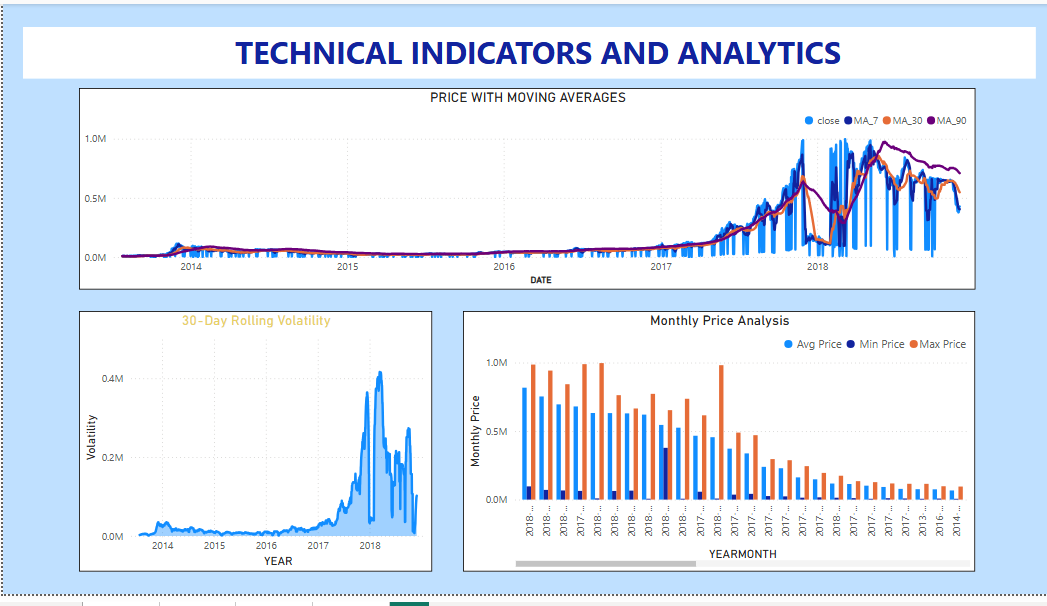

This screenshot's page, from the dashboard's own definition file:
{"tool":"powerbi","page":{"name":"Page 4","canvas":[1280,720],"ordinal":3},"visuals":[{"type":"textbox","box":[24,28.5,1236.4,63.1],"z":0},{"type":"lineChart","title":"PRICE WITH MOVING AVERAGES","fields":{"Category":["BitcoinComplete.date"],"Y":["Sum(BitcoinComplete.close)","Sum(BitcoinComplete.MA_7)","Sum(BitcoinComplete.MA_30)"],"Y2":["Sum(BitcoinComplete.MA_90)"]},"box":[93.1,102.2,1093.7,246.4],"z":1000},{"type":"areaChart","title":"30-Day Rolling Volatility ","fields":{"Category":["BitcoinComplete.date"],"Y":["Sum(BitcoinComplete.volatility)"]},"box":[93.1,374.1,431.2,318.5],"z":2000},{"type":"clusteredColumnChart","title":"Monthly Price Analysis","fields":{"Category":["MonthlyAnalysis.YearMonth"],"Y":["Sum(MonthlyAnalysis.Avg_Price)","Sum(MonthlyAnalysis.Min_Price)","Sum(MonthlyAnalysis.Max_Price)"]},"box":[561.9,374.1,625,318.5],"z":3000}]}

Visuals, with their boxes in screenshot pixels (x1, y1, x2, y2), scaled from the page's 1280x720 canvas onto the 1047x606 screenshot:
textbox: bbox=(20, 24, 1031, 77)
"PRICE WITH MOVING AVERAGES" lineChart: bbox=(76, 86, 971, 293)
"30-Day Rolling Volatility " areaChart: bbox=(76, 315, 429, 583)
"Monthly Price Analysis" clusteredColumnChart: bbox=(460, 315, 971, 583)
